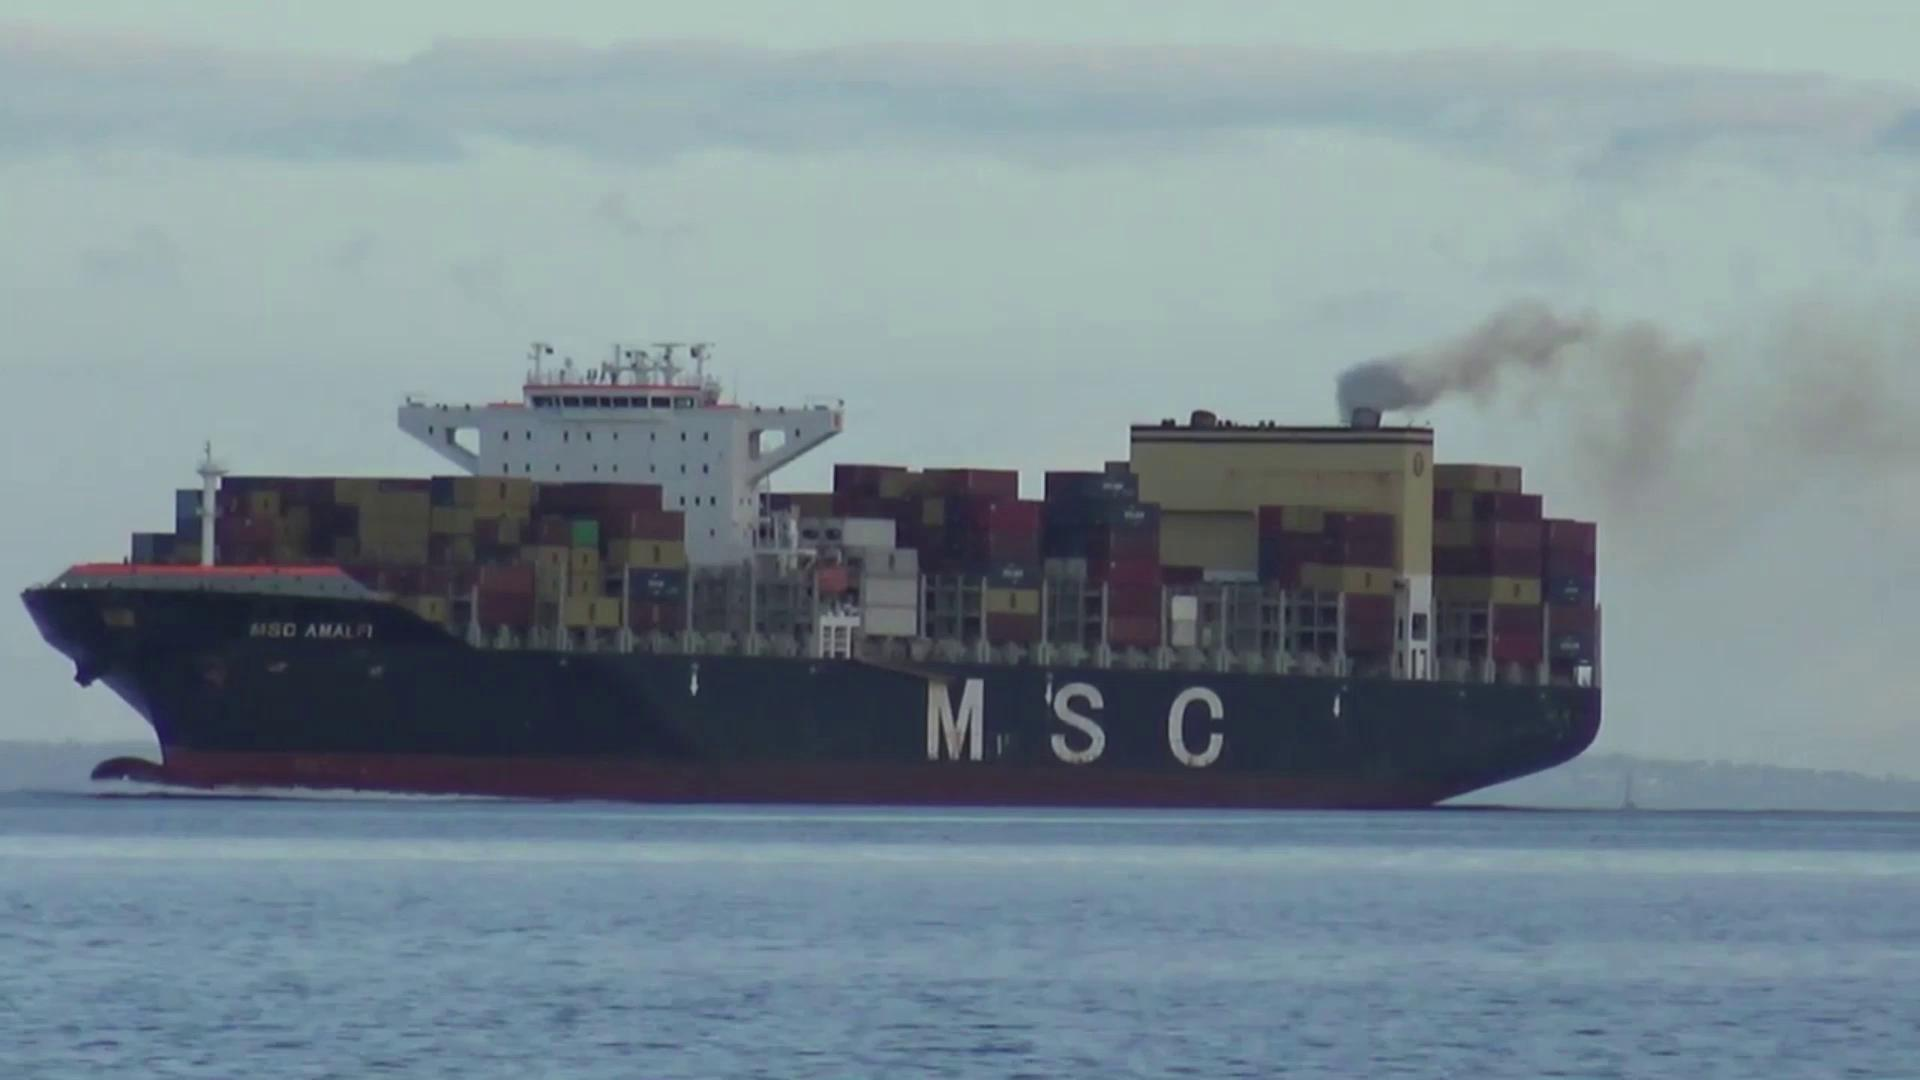OCR: (893, 669, 1234, 786)
